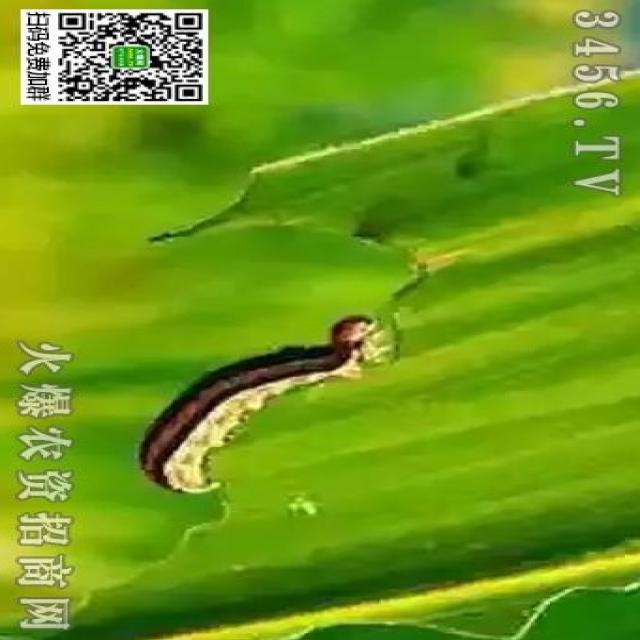army worm: (129, 310, 392, 510)
